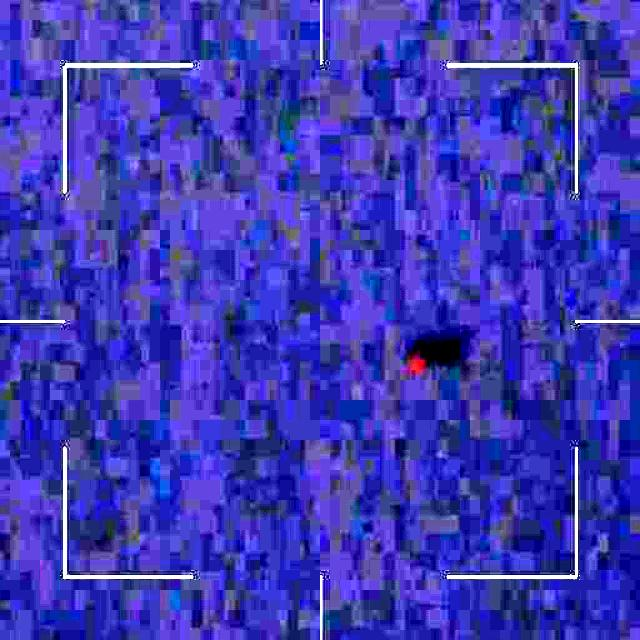bird: (409, 341, 442, 382)
